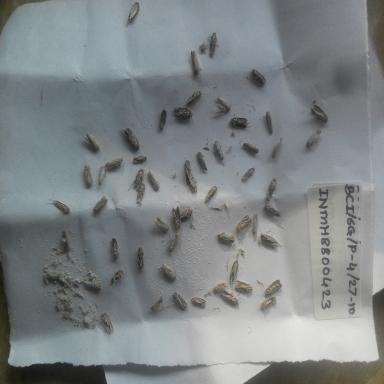pbw: (118, 124, 140, 153), (308, 98, 329, 126), (170, 103, 195, 126), (80, 128, 102, 154), (246, 65, 268, 91), (187, 49, 205, 79), (102, 148, 124, 172), (259, 290, 283, 312), (89, 192, 110, 216), (228, 114, 254, 133), (223, 256, 240, 284), (80, 156, 94, 190), (127, 166, 146, 191), (46, 196, 72, 214), (264, 176, 280, 205), (182, 85, 204, 106), (259, 228, 282, 248), (159, 261, 179, 284), (162, 230, 182, 253), (262, 108, 277, 138), (211, 136, 227, 164), (194, 146, 210, 174), (262, 277, 284, 297), (109, 267, 128, 290), (305, 127, 323, 151), (170, 204, 183, 237), (100, 310, 114, 340), (220, 287, 240, 308), (232, 276, 254, 295), (234, 212, 252, 235), (43, 266, 67, 283), (204, 182, 219, 209), (122, 6, 142, 26), (84, 276, 104, 296), (214, 94, 232, 116), (134, 182, 149, 208), (206, 30, 220, 57), (184, 167, 198, 193), (58, 228, 72, 254), (270, 135, 284, 161), (151, 215, 170, 234), (150, 294, 169, 313), (239, 164, 257, 184), (172, 290, 188, 312), (263, 199, 285, 215), (249, 208, 261, 237), (135, 246, 147, 274), (216, 230, 236, 246), (240, 140, 260, 156), (109, 236, 121, 262), (148, 170, 162, 192), (211, 279, 229, 296), (183, 156, 193, 186), (95, 162, 108, 184), (158, 106, 169, 132), (177, 207, 194, 222), (191, 295, 207, 310), (130, 153, 148, 166)
